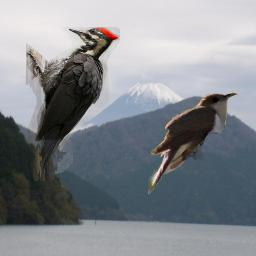Cuckoo: (148, 91, 238, 198)
Woodpecker: (26, 27, 120, 181)
